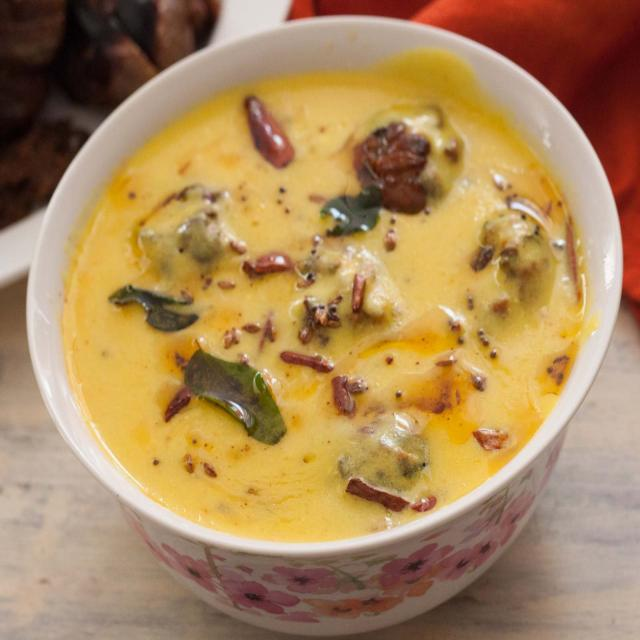Kadhi Pakora: (63, 65, 586, 551)
